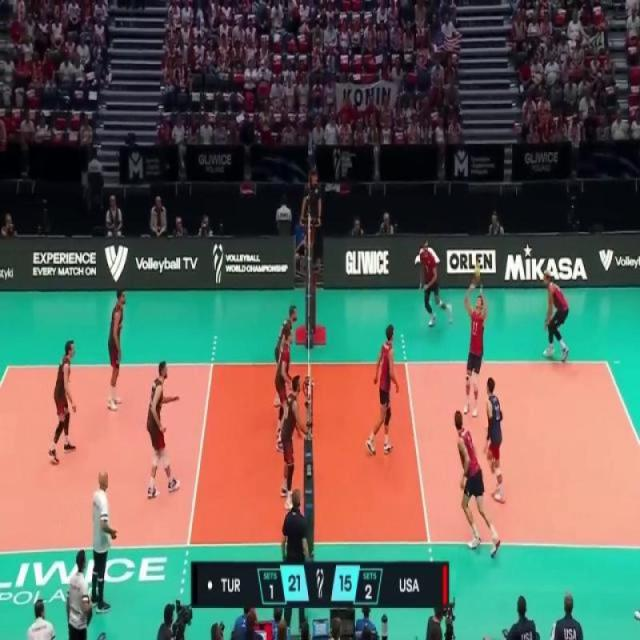volleyball: (472, 258, 482, 288)
